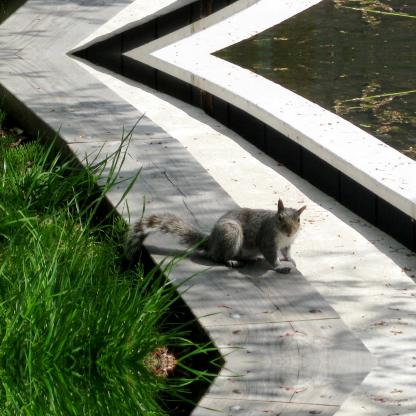Squirrel: (130, 198, 312, 288)
